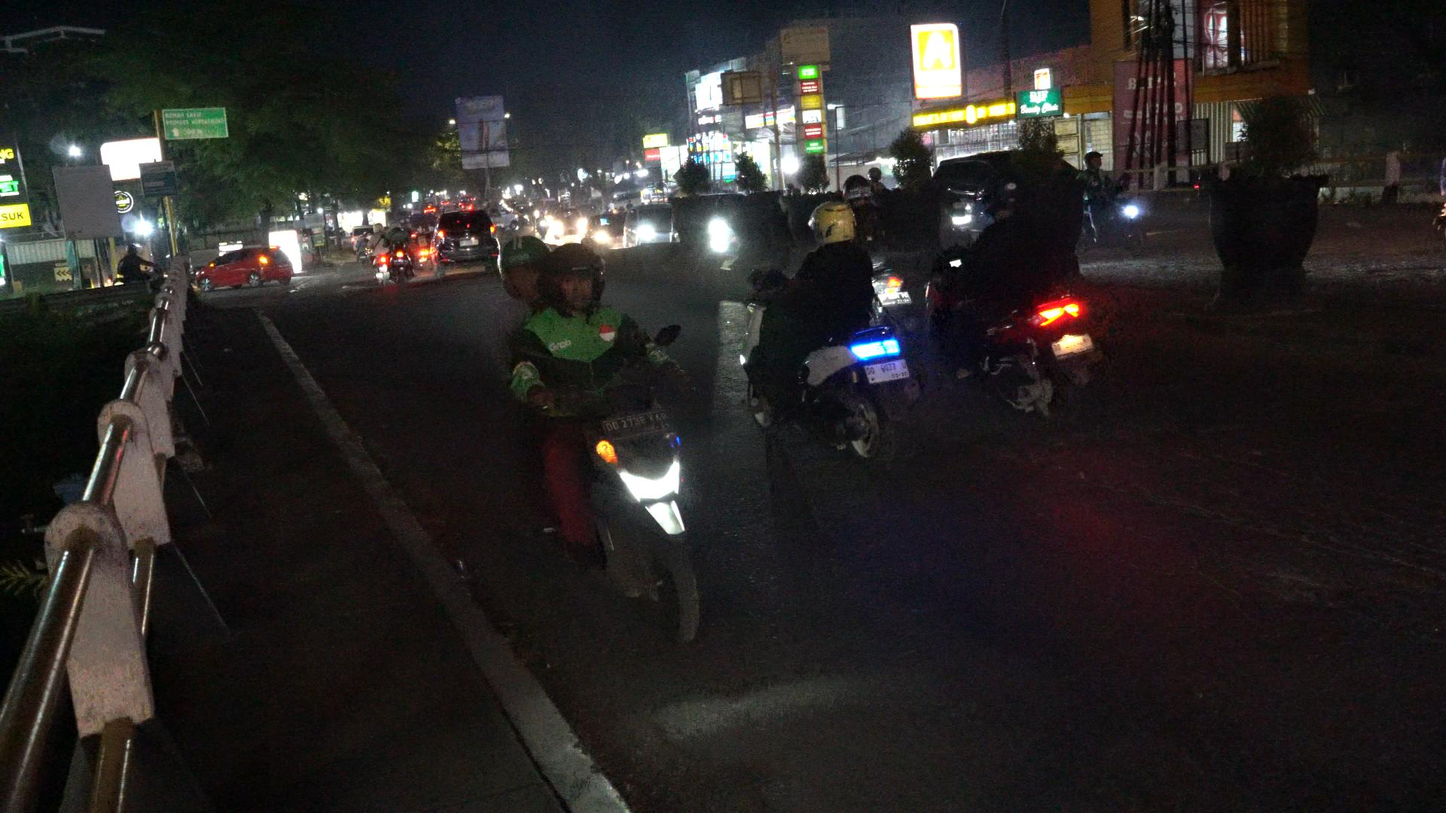number-plate: (603, 401, 677, 443)
